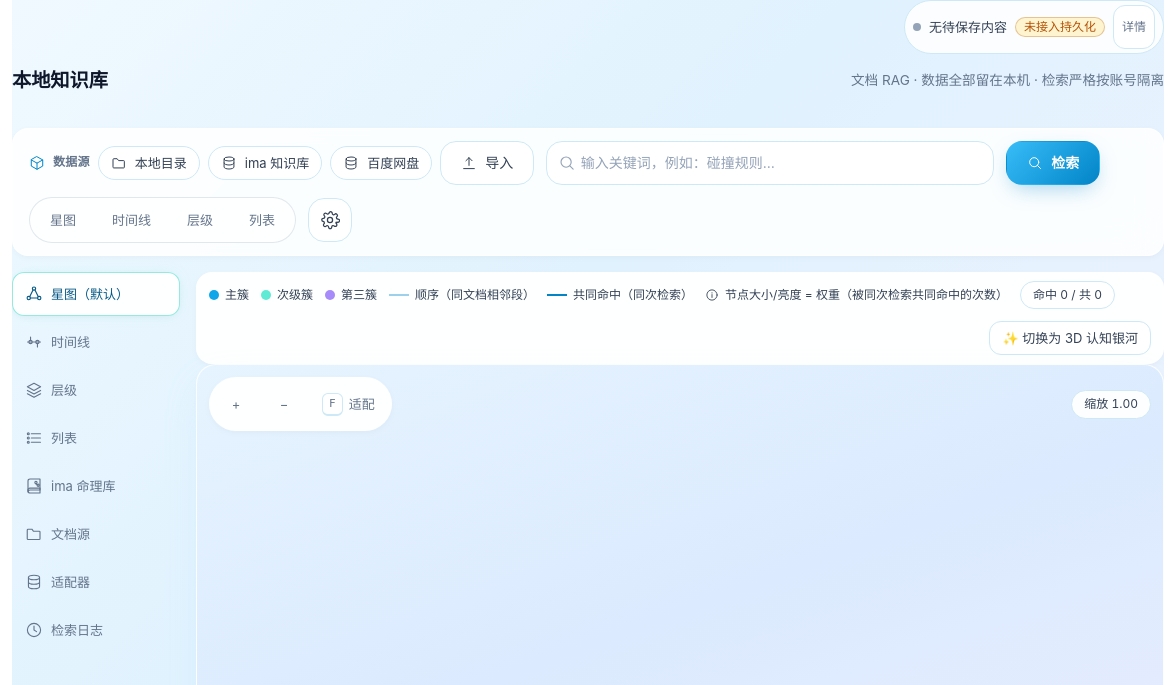
KnowledgePage · 检索 › 空检索词直接报错，不发请求
Click the button "检索": (1053,163) left=1006, top=141, right=1100, bottom=185
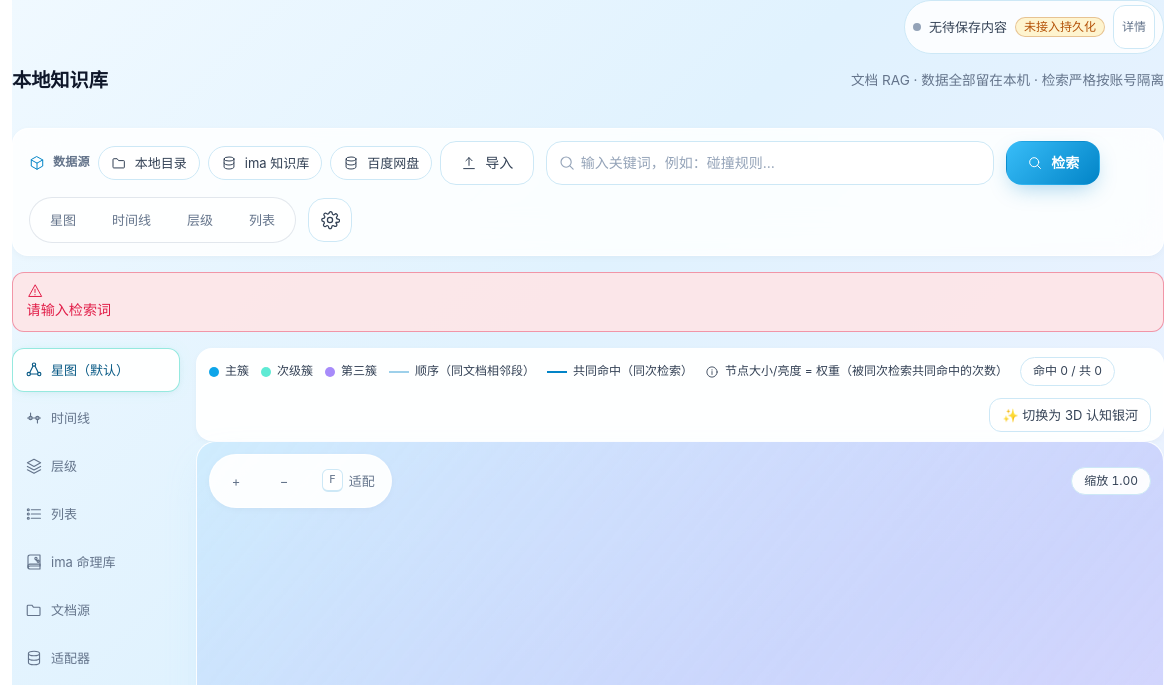
Result: the text "请输入检索词" is shown at left=12, top=272, right=1164, bottom=332
